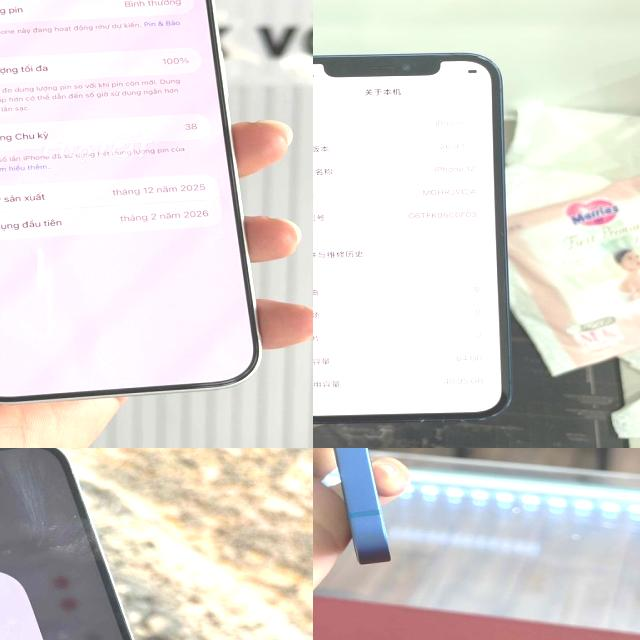gen_12_13: (313, 52, 518, 424)
gen_14: (0, 448, 197, 640)
gen_17: (0, 0, 288, 409)
scratch: (32, 512, 109, 562)
